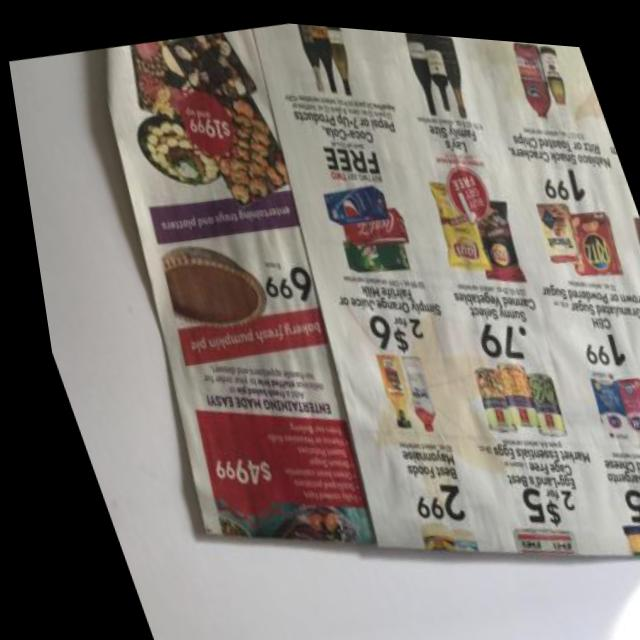paper: (11, 1, 640, 640)
